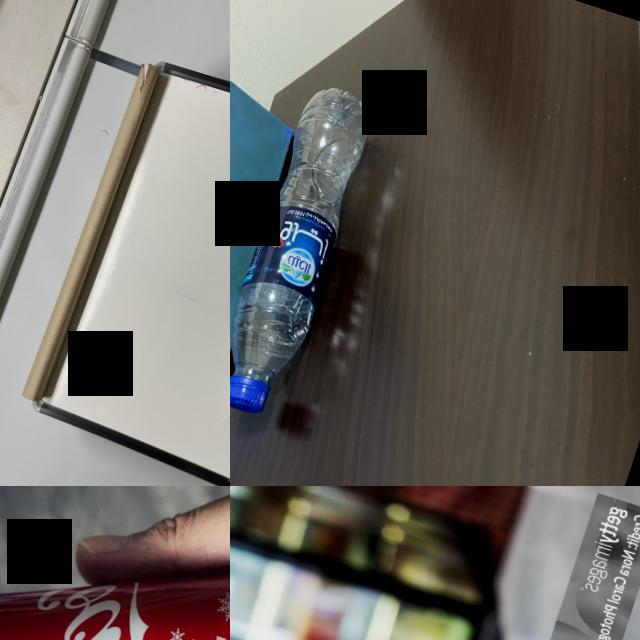bottle: (230, 69, 405, 445)
can: (0, 486, 230, 640)
